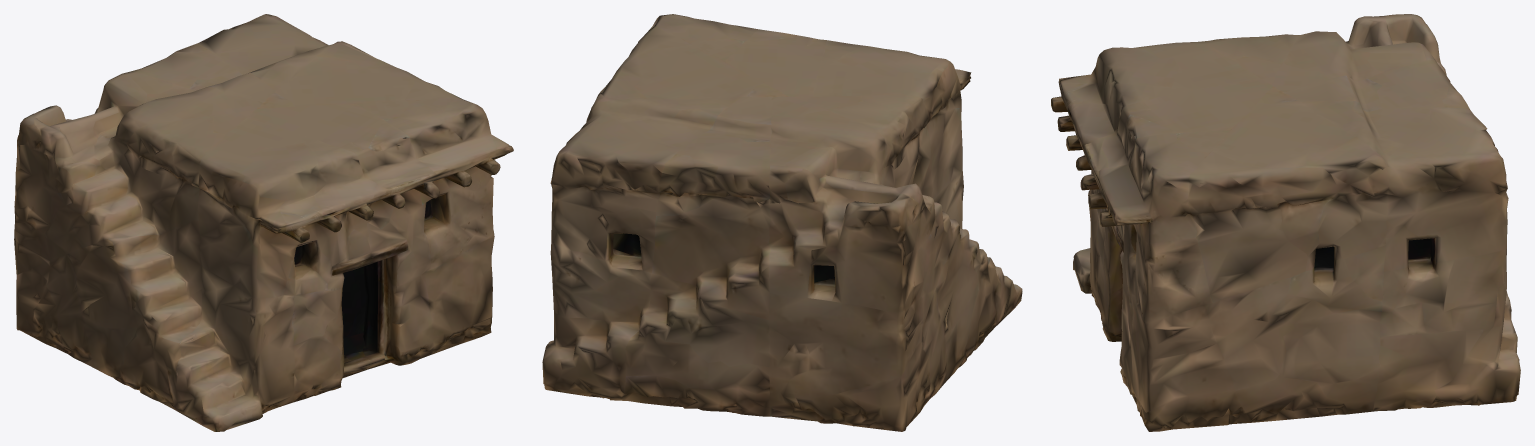
File: uy_katta.glb
The picture shows the model from 3 angles, left to right: view 1: azimuth 30°, elevation 25°; view 2: azimuth 150°, elevation 25°; view 3: azimuth 270°, elevation 25°; orthographic projection. The views are drawn at different scales.
Visible parts, largest first — view 1: tripo_node_2fa89c81-fe84-4a12-b4ec-4bace76003d4; view 2: tripo_node_2fa89c81-fe84-4a12-b4ec-4bace76003d4; view 3: tripo_node_2fa89c81-fe84-4a12-b4ec-4bace76003d4.
Part boxes in pixels (left/top/right/bottom): tripo_node_2fa89c81-fe84-4a12-b4ec-4bace76003d4: left=14, top=14, right=513, bottom=431; tripo_node_2fa89c81-fe84-4a12-b4ec-4bace76003d4: left=542, top=14, right=1022, bottom=431; tripo_node_2fa89c81-fe84-4a12-b4ec-4bace76003d4: left=1051, top=14, right=1520, bottom=431.
Bounding box in the file's own units: 0.9654 × 0.5854 × 0.9825.
1 material, 1 textured.
